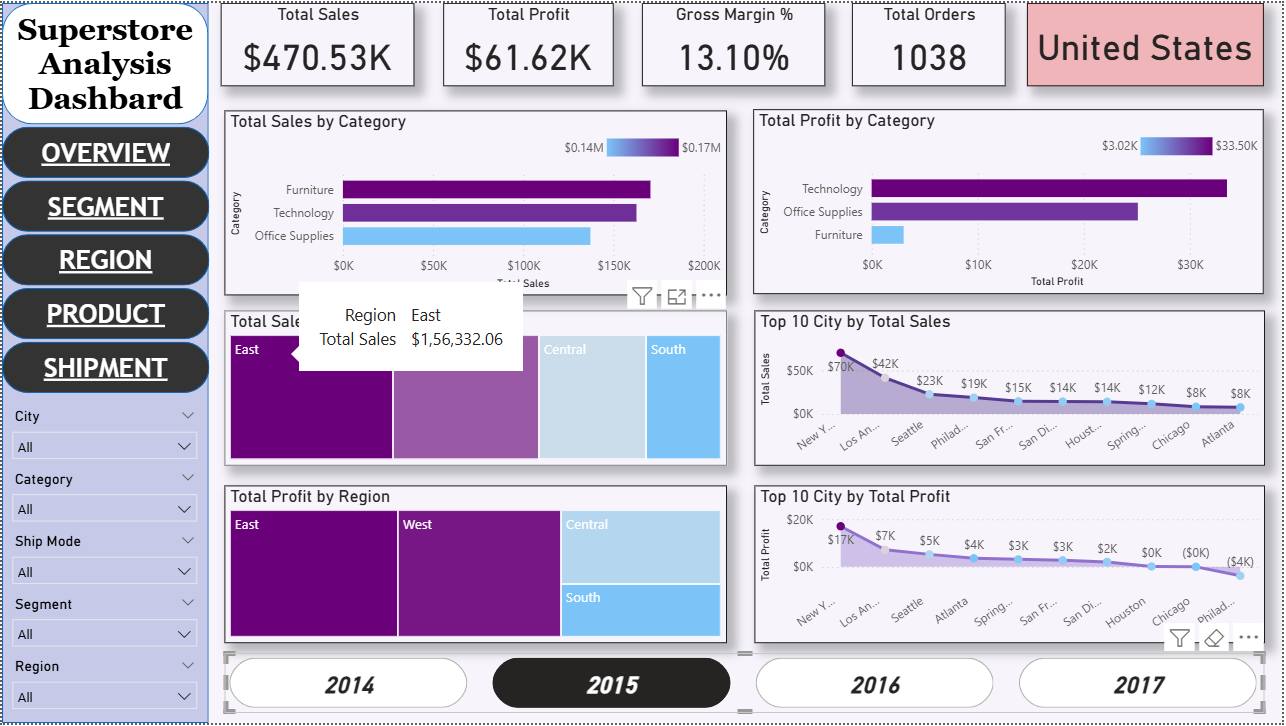

What the dashboard file says about the page in this screenshot:
{"tool":"powerbi","page":{"name":"Overview of the analysis","canvas":[1280,720],"ordinal":0},"visuals":[{"type":"card","title":"Total Orders","fields":{"Values":["Count(Sample - Superstore_cleaned.Order ID)"]},"box":[850,0,153.3,83.3],"z":4},{"type":"shape","box":[0,0,206.7,720],"z":5},{"type":"shape","box":[0,0,206.2,121.2],"z":6},{"type":"barChart","fields":{"Y":["Key Measurers.Total Sales"],"Category":["Sample - Superstore_cleaned.Category"]},"box":[222.5,107.5,502.5,185],"z":7},{"type":"barChart","fields":{"Category":["Sample - Superstore_cleaned.Category"],"Y":["Key Measurers.Total Profit"]},"box":[751.7,106.7,510,185],"z":8},{"type":"treemap","fields":{"Group":["Sample - Superstore_cleaned.Region"],"Values":["Key Measurers.Total Sales"]},"box":[222.5,307.5,502.5,155],"z":9},{"type":"lineChart","title":"Top 10 City by Total Sales","fields":{"Category":["Sample - Superstore_cleaned.City"],"Y":["Key Measurers.Total Sales"]},"box":[752.5,307.5,510,155],"z":10},{"type":"treemap","fields":{"Group":["Sample - Superstore_cleaned.Region"],"Values":["Key Measurers.Total Profit"]},"box":[222.5,482.5,502.5,157.5],"z":11},{"type":"lineChart","title":"Top 10 City by Total Profit","fields":{"Category":["Sample - Superstore_cleaned.City"],"Y":["Key Measurers.Total Profit"]},"box":[752.5,482.5,510,157.5],"z":12},{"type":"card","fields":{"Values":["Min(Sample - Superstore_cleaned.Country)"]},"box":[1025,0,236.7,83.3],"z":13},{"type":"shape","box":[0,123.8,207.5,51.2],"z":14},{"type":"shape","box":[0,177.5,207.5,51.2],"z":15},{"type":"shape","box":[0,231.2,207.5,51.2],"z":16},{"type":"shape","box":[0,285,207.5,51.2],"z":17},{"type":"shape","box":[0,338.8,207.5,51.2],"z":18},{"type":"advancedSlicerVisual","title":"Year as per Profit","fields":{"Values":["Sample - Superstore_cleaned.Year"]},"box":[222.5,650,1040,60],"z":19},{"type":"slicer","fields":{"Values":["Sample - Superstore_cleaned.City"]},"box":[0,400,205,62.5],"z":20},{"type":"slicer","fields":{"Values":["Sample - Superstore_cleaned.Category"]},"box":[0,462.5,205,62.5],"z":21},{"type":"slicer","fields":{"Values":["Sample - Superstore_cleaned.Ship Mode"]},"box":[0,525,205,62.5],"z":22},{"type":"slicer","fields":{"Values":["Sample - Superstore_cleaned.Segment"]},"box":[0,587.5,205,62.5],"z":23},{"type":"slicer","fields":{"Values":["Sample - Superstore_cleaned.Region"]},"box":[0,650,205,62.5],"z":24},{"type":"card","title":"Total Profit","fields":{"Values":["Key Measurers.Total Profit"]},"box":[441.7,0,170,83.3],"z":25},{"type":"card","title":"Gross Margin %","fields":{"Values":["Key Measurers.Gross Margin %"]},"box":[640,0,183.3,83.3],"z":26},{"type":"card","title":"Total Sales","fields":{"Values":["Key Measurers.Total Sales"]},"box":[218.3,0,193.3,83.3],"z":27}]}

Visuals, with their boxes in screenshot pixels (x1, y1, x2, y2), scaled from the page's 1280x720 canvas onto the 1286x726 screenshot:
"Total Orders" card: rect(854, 0, 1008, 84)
shape: rect(0, 0, 208, 725)
shape: rect(0, 0, 207, 122)
barChart - Key Measurers.Total Sales x Sample - Superstore_cleaned.Category: rect(224, 108, 728, 295)
barChart - Sample - Superstore_cleaned.Category x Key Measurers.Total Profit: rect(755, 108, 1268, 294)
treemap - Sample - Superstore_cleaned.Region x Key Measurers.Total Sales: rect(224, 310, 728, 466)
"Top 10 City by Total Sales" lineChart: rect(756, 310, 1268, 466)
treemap - Sample - Superstore_cleaned.Region x Key Measurers.Total Profit: rect(224, 487, 728, 645)
"Top 10 City by Total Profit" lineChart: rect(756, 487, 1268, 645)
card - Min(Sample - Superstore_cleaned.Country): rect(1030, 0, 1268, 84)
shape: rect(0, 125, 208, 176)
shape: rect(0, 179, 208, 231)
shape: rect(0, 233, 208, 285)
shape: rect(0, 287, 208, 339)
shape: rect(0, 342, 208, 393)
"Year as per Profit" advancedSlicerVisual: rect(224, 655, 1268, 716)
slicer - Sample - Superstore_cleaned.City: rect(0, 403, 206, 466)
slicer - Sample - Superstore_cleaned.Category: rect(0, 466, 206, 529)
slicer - Sample - Superstore_cleaned.Ship Mode: rect(0, 529, 206, 592)
slicer - Sample - Superstore_cleaned.Segment: rect(0, 592, 206, 655)
slicer - Sample - Superstore_cleaned.Region: rect(0, 655, 206, 718)
"Total Profit" card: rect(444, 0, 615, 84)
"Gross Margin %" card: rect(643, 0, 827, 84)
"Total Sales" card: rect(219, 0, 414, 84)
